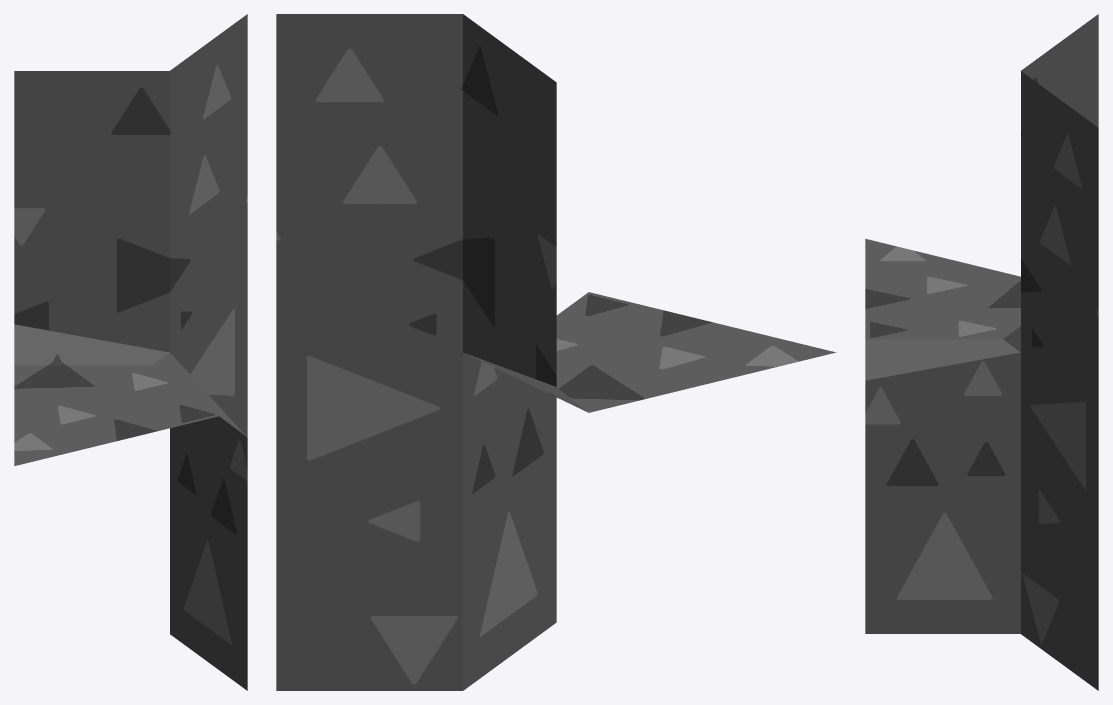
Rendered from wfc_tile_descent_ccw.obj.
3 renders of one model, left to right at view 1: azimuth 30°, elevation 25°; view 2: azimuth 150°, elevation 25°; view 3: azimuth 270°, elevation 25°, orthographic. The views are drawn at different scales.
Visible parts, largest first — view 1: 210; view 2: 210; view 3: 210.
Boxes of the visible parts, x1,y1,x2,y2 form: 210: (14,14,247,690); 210: (276,14,836,690); 210: (865,14,1098,690).
Size of the model in its own units: 1.3 by 2 by 0.75.
1 material, 1 textured.
